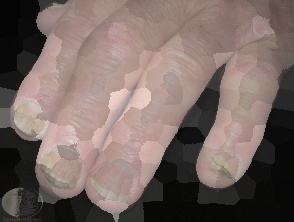Nail_psoriasis: (36, 141, 90, 194), (5, 94, 54, 143), (205, 150, 241, 181), (44, 0, 67, 14)
